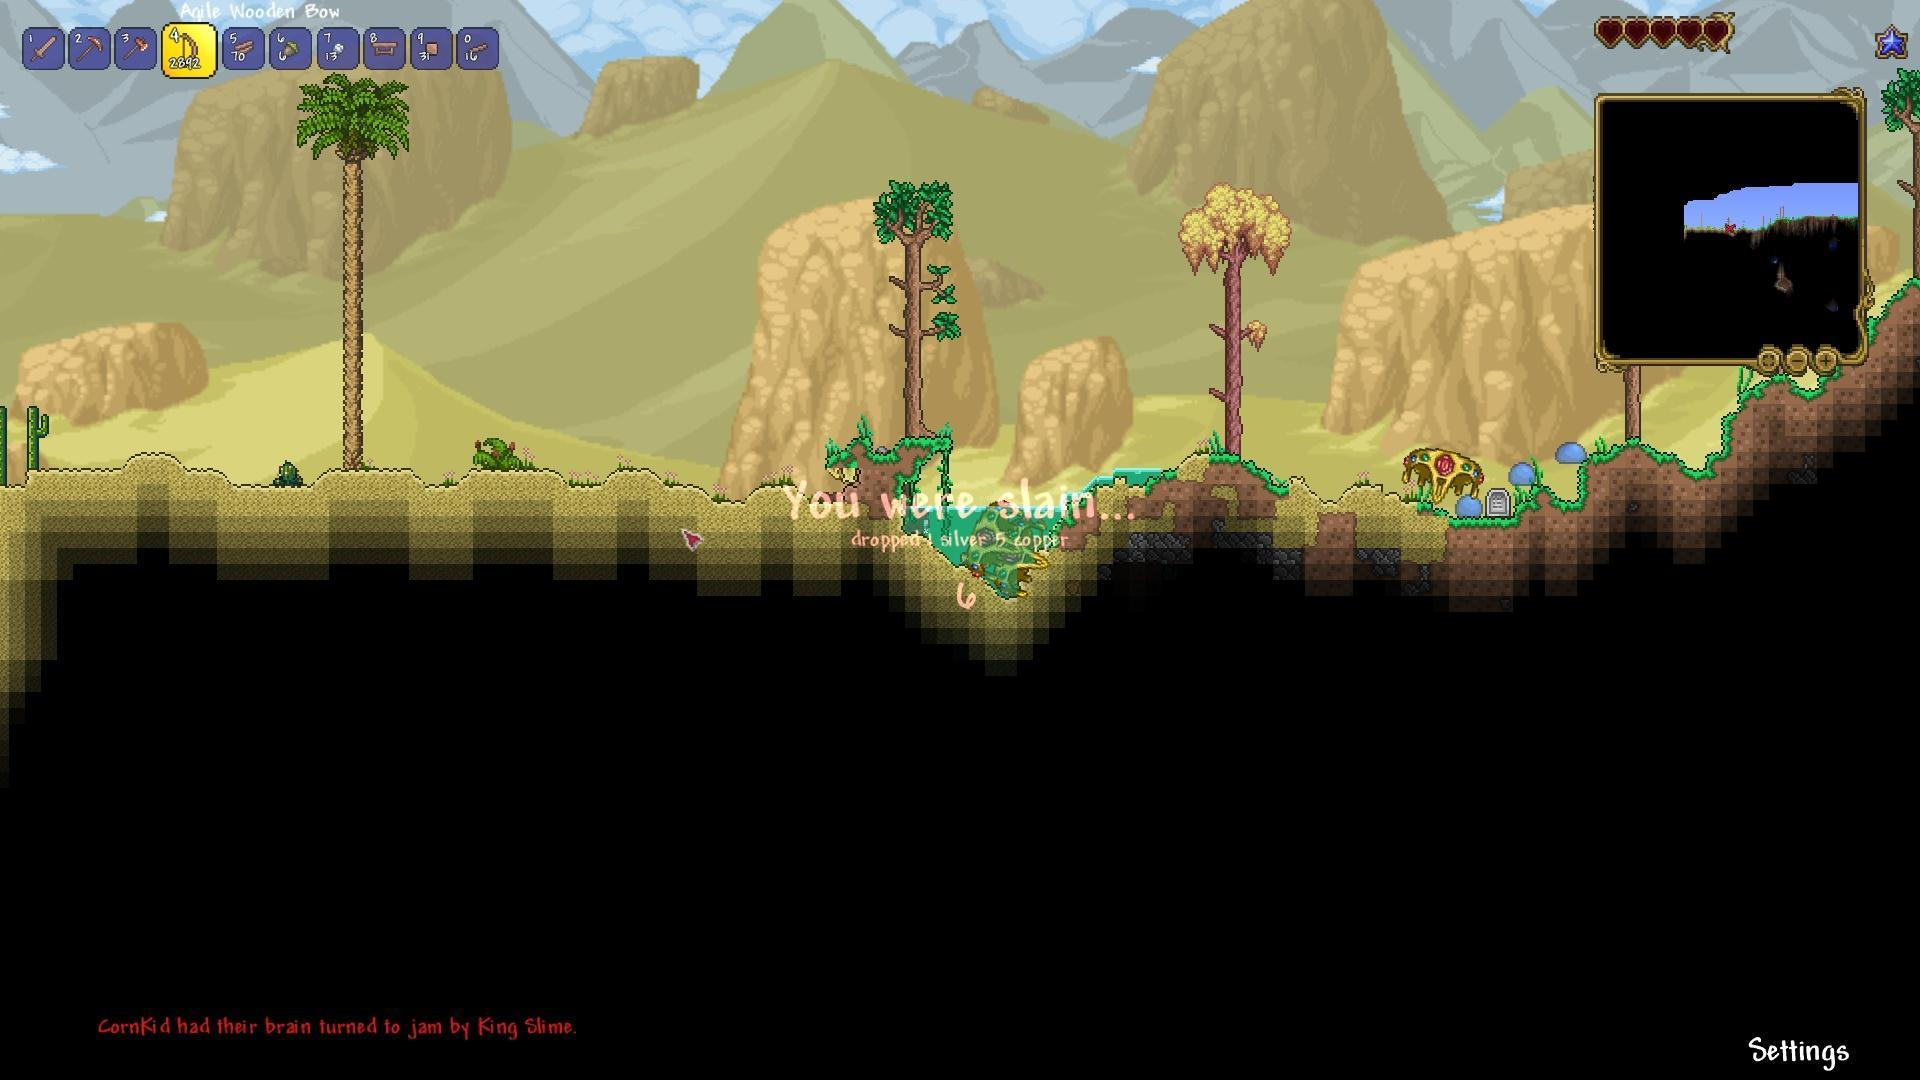slime: (1449, 493, 1486, 521), (1553, 438, 1589, 465), (1506, 460, 1542, 488)
wood: (228, 33, 260, 63)
workbench: (367, 34, 404, 59)
